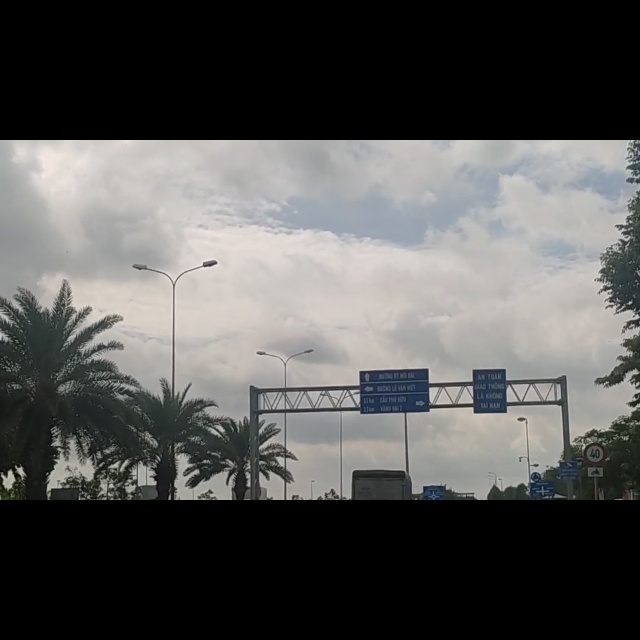bien_chi_dan: (584, 537, 606, 577), (585, 578, 606, 602)
